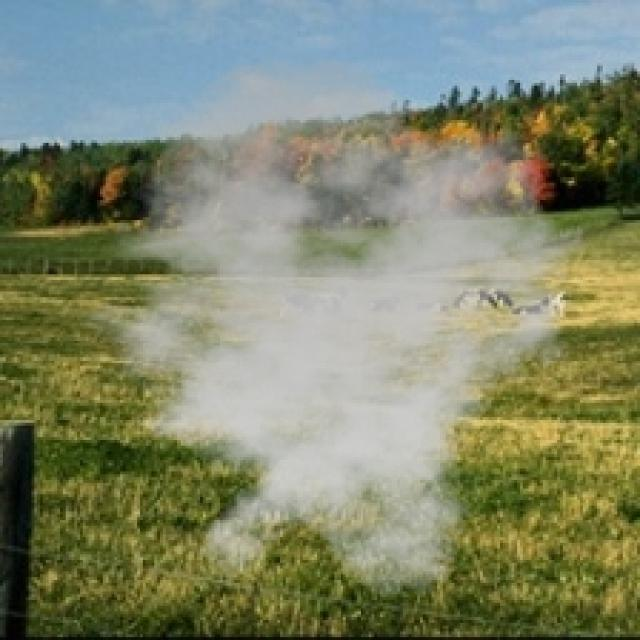Smoke: (54, 54, 603, 600)
